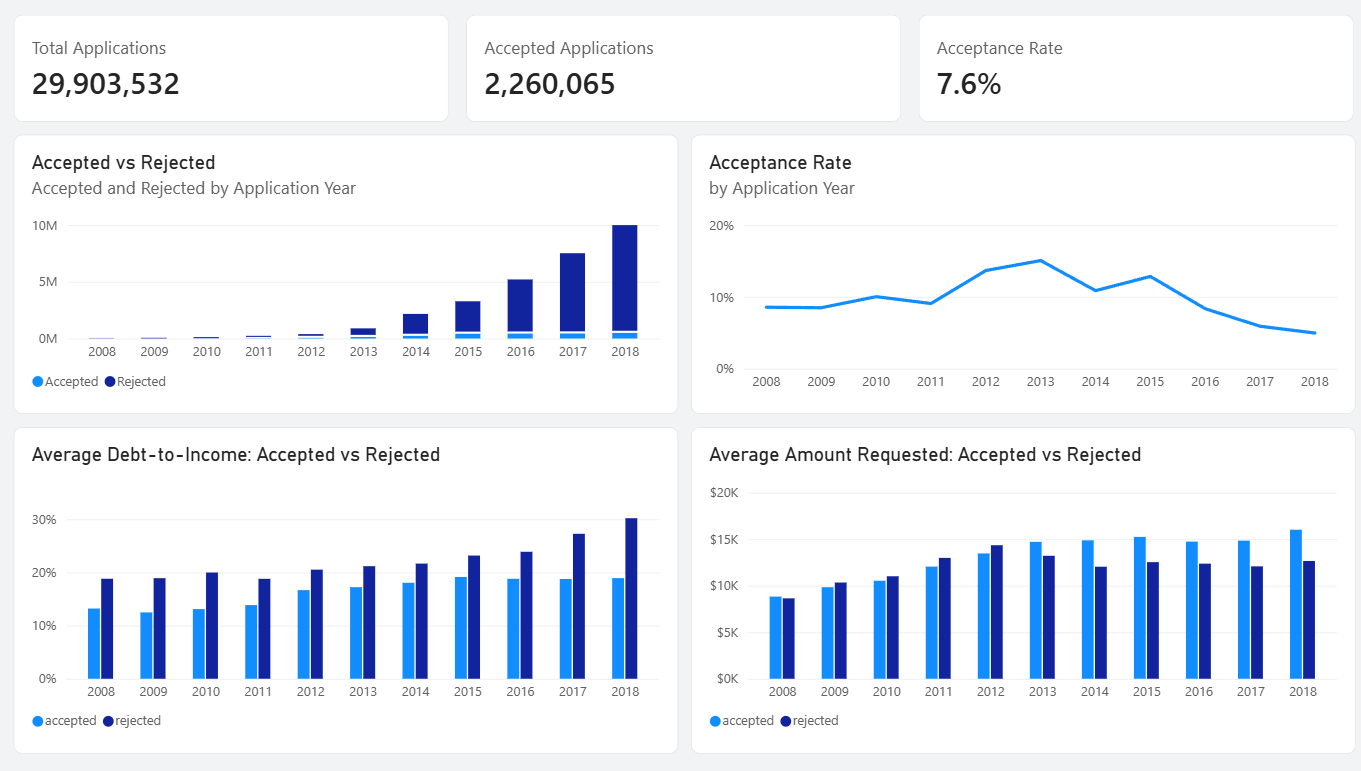

The page's visual inventory and layout, read from the dashboard file:
{"tool":"powerbi","page":{"name":"Underwriting Funnel","canvas":[1280,720],"ordinal":1},"visuals":[{"type":"columnChart","title":"Accepted vs Rejected","fields":{"Category":["agg_application_volume.app_year"],"Y":["Sum(agg_application_volume.accepted)","Sum(agg_application_volume.rejected)"]},"box":[16,128,618,260],"z":0},{"type":"lineChart","fields":{"Category":["agg_application_volume.app_year"],"Y":["agg_application_volume.Acceptance Rate"]},"box":[646,128,618,260],"z":1},{"type":"clusteredColumnChart","title":"Average Debt-to-Income: Accepted vs Rejected","fields":{"Category":["agg_accept_reject_profile.app_year"],"Series":["agg_accept_reject_profile.outcome"],"Y":["Sum(agg_accept_reject_profile.avg_dti)"]},"box":[16,400,618,304],"z":2},{"type":"clusteredColumnChart","title":"Average Amount Requested: Accepted vs Rejected","fields":{"Category":["agg_accept_reject_profile.app_year"],"Series":["agg_accept_reject_profile.outcome"],"Y":["Sum(agg_accept_reject_profile.avg_amount_requested)"]},"box":[646,400,618,304],"z":3},{"type":"cardVisual","fields":{"Data":["agg_application_volume.Acceptance Rate"]},"box":[858,16,405,100],"z":4},{"type":"cardVisual","fields":{"Data":["agg_application_volume.Total Applications"]},"box":[16,16,405,100],"z":5},{"type":"cardVisual","fields":{"Data":["agg_application_volume.Accepted Applications"]},"box":[437,16,405,100],"z":6}]}

Visuals, with their boxes in screenshot pixels (x1, y1, x2, y2), scaled from the page's 1280x720 canvas onto the 1361x771 screenshot:
"Accepted vs Rejected" columnChart: Rect(17, 137, 674, 415)
lineChart - agg_application_volume.app_year x agg_application_volume.Acceptance Rate: Rect(687, 137, 1344, 415)
"Average Debt-to-Income: Accepted vs Rejected" clusteredColumnChart: Rect(17, 428, 674, 754)
"Average Amount Requested: Accepted vs Rejected" clusteredColumnChart: Rect(687, 428, 1344, 754)
cardVisual - agg_application_volume.Acceptance Rate: Rect(912, 17, 1343, 124)
cardVisual - agg_application_volume.Total Applications: Rect(17, 17, 448, 124)
cardVisual - agg_application_volume.Accepted Applications: Rect(465, 17, 895, 124)
